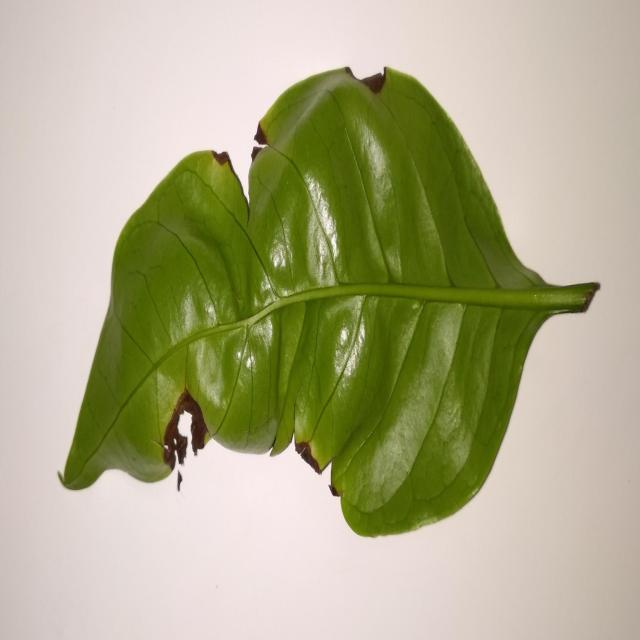Enfermedad-Antracnosis: (58, 67, 600, 541)
